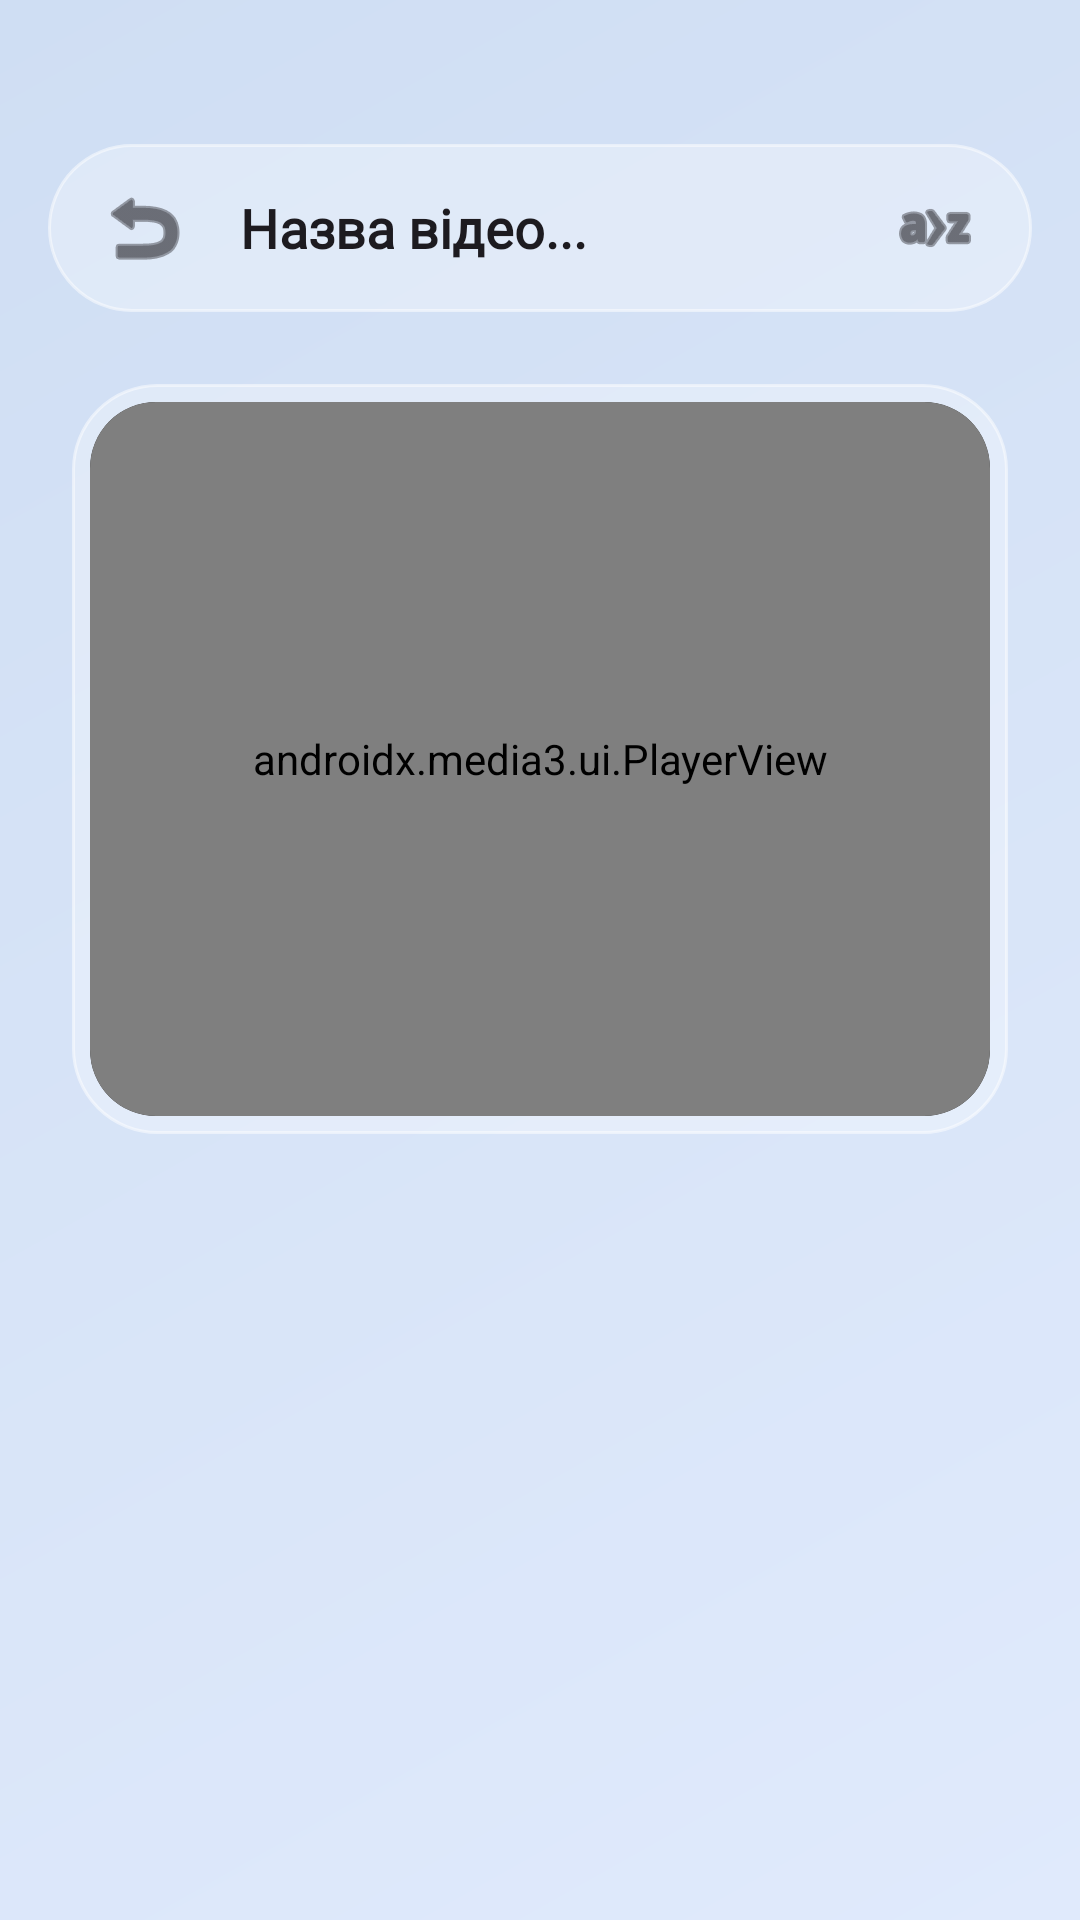

Icon bounding boxes for this 1080 x 1920 phone screenshot, format (x1, y1, x2, y2):
revert: (111, 197, 180, 260)
sort alphabetically: (899, 209, 971, 247)
